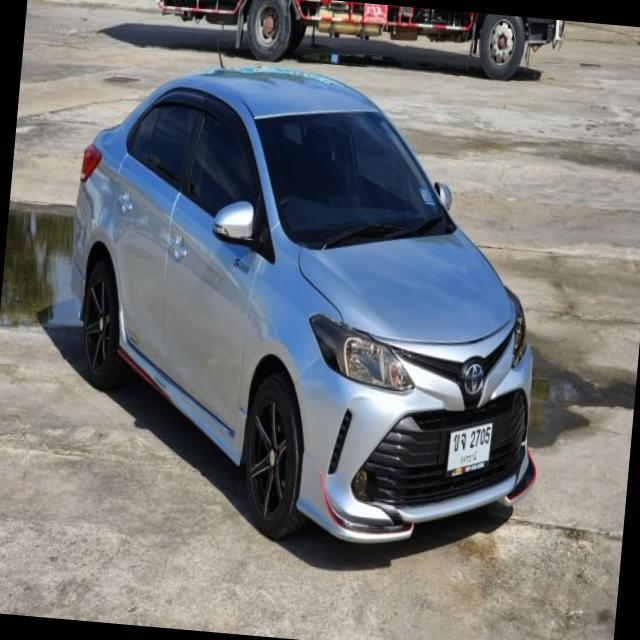license_plate: (440, 414, 500, 484)
